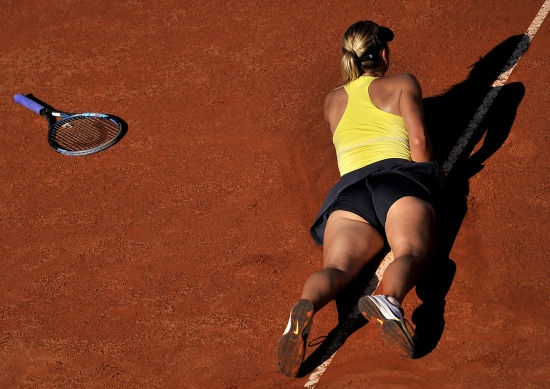falling: (264, 13, 464, 375)
